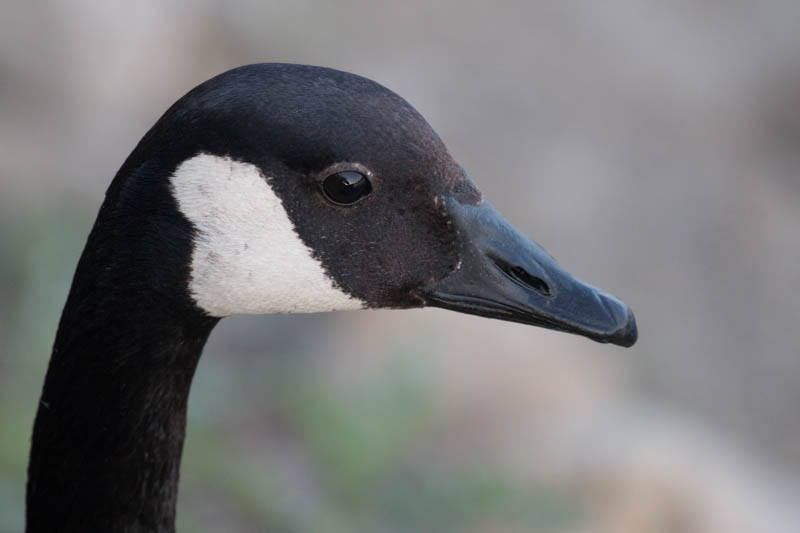goose-head: (67, 61, 639, 351)
